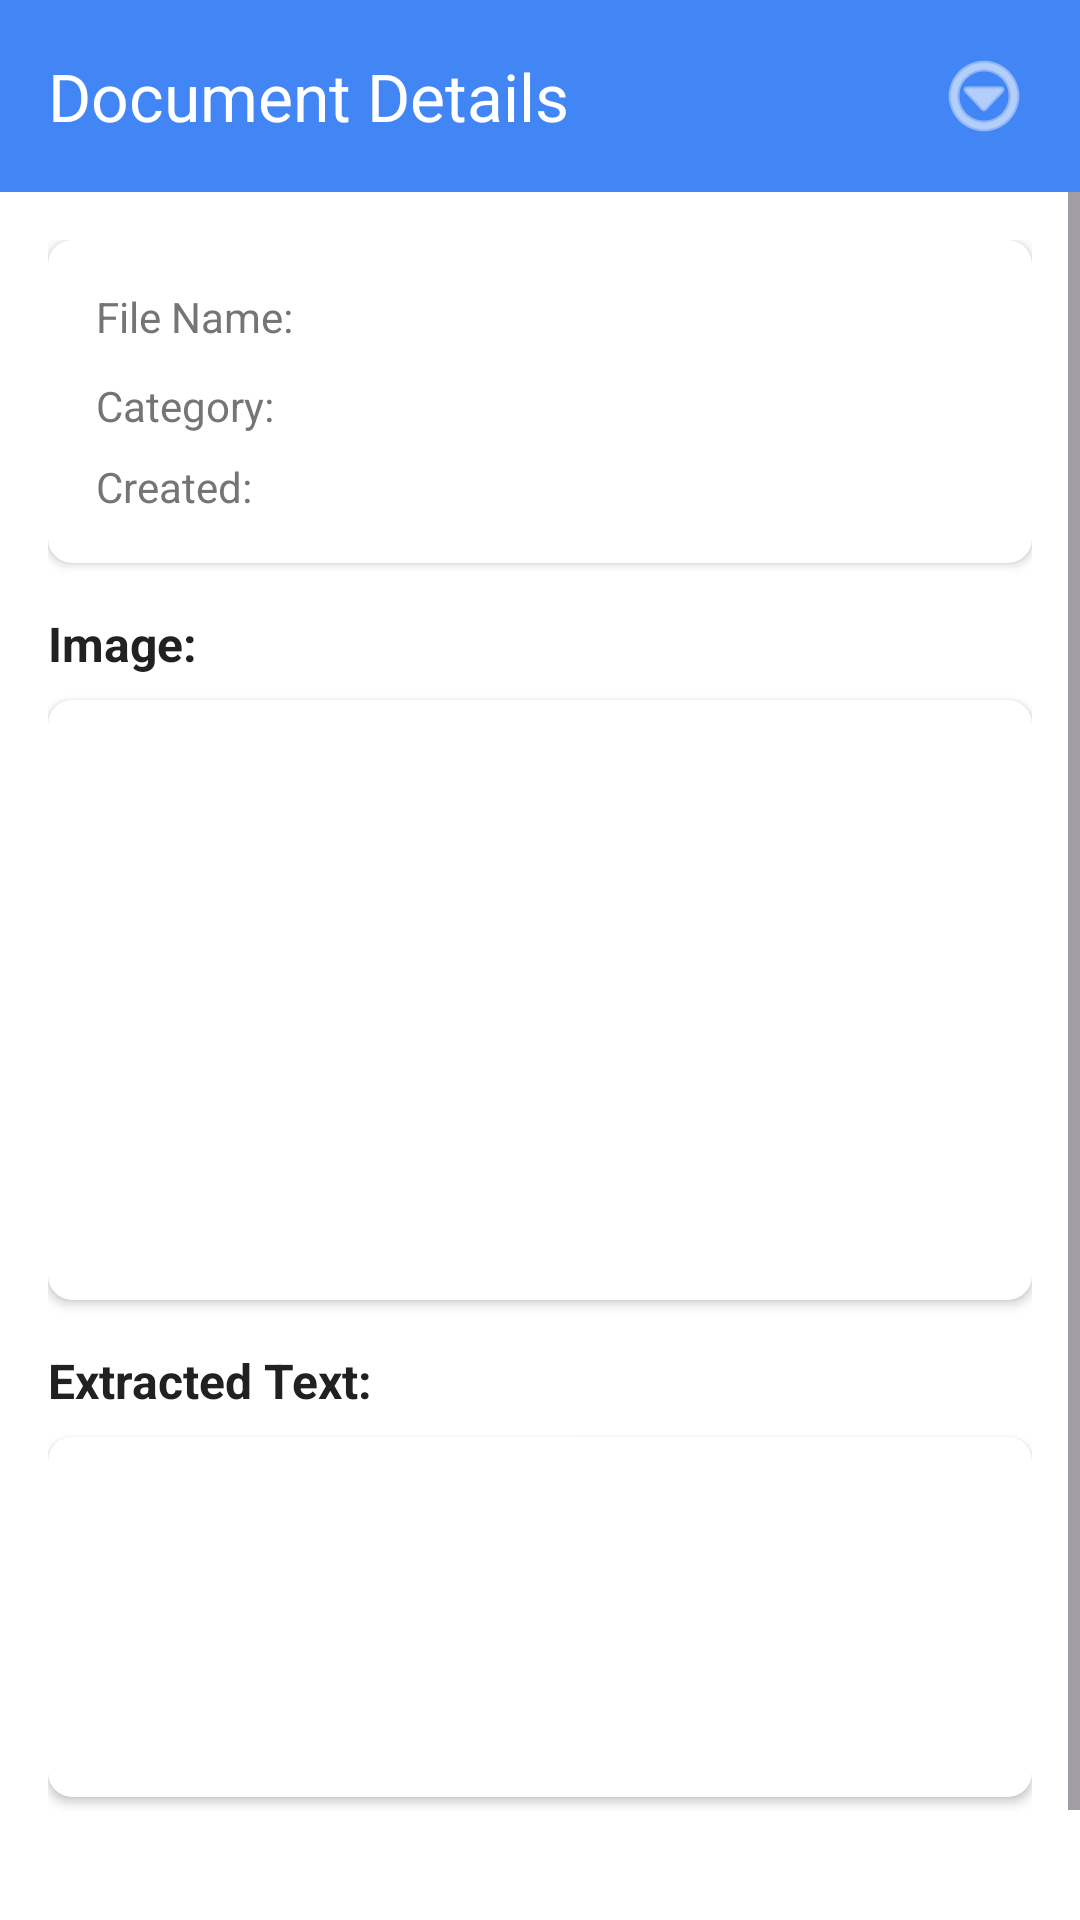

Point at icon controls on the screen. Image size 1080 x 1920, points as [x,y].
More Options: [984,96]
